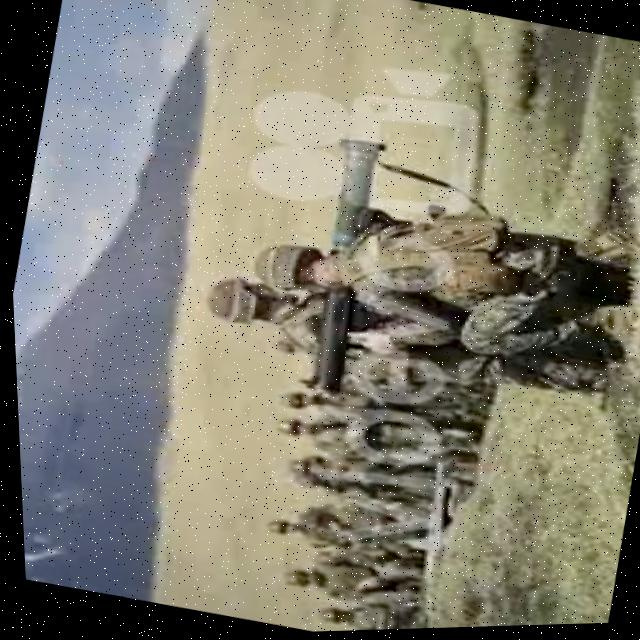rocket: (261, 130, 420, 412)
